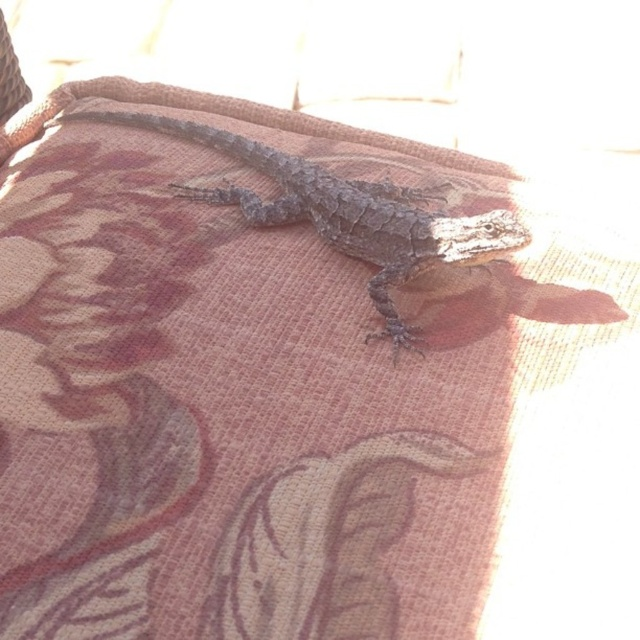Lizard: (111, 71, 569, 390)
